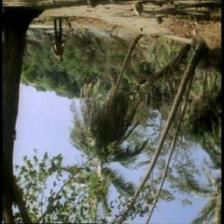monkey: (66, 21, 75, 35)
